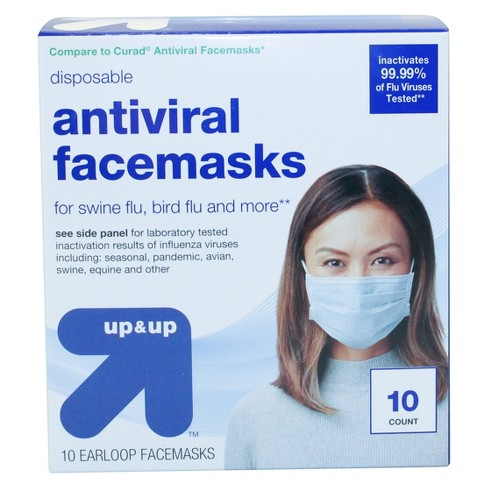Mask: (296, 205, 415, 349)
